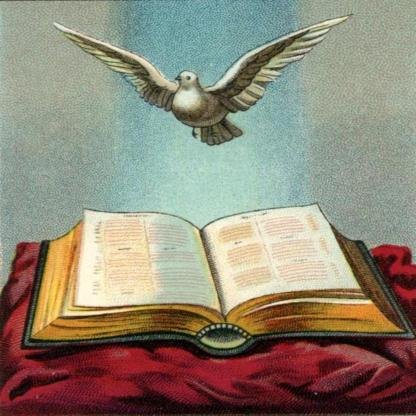book: (0, 194, 405, 370)
